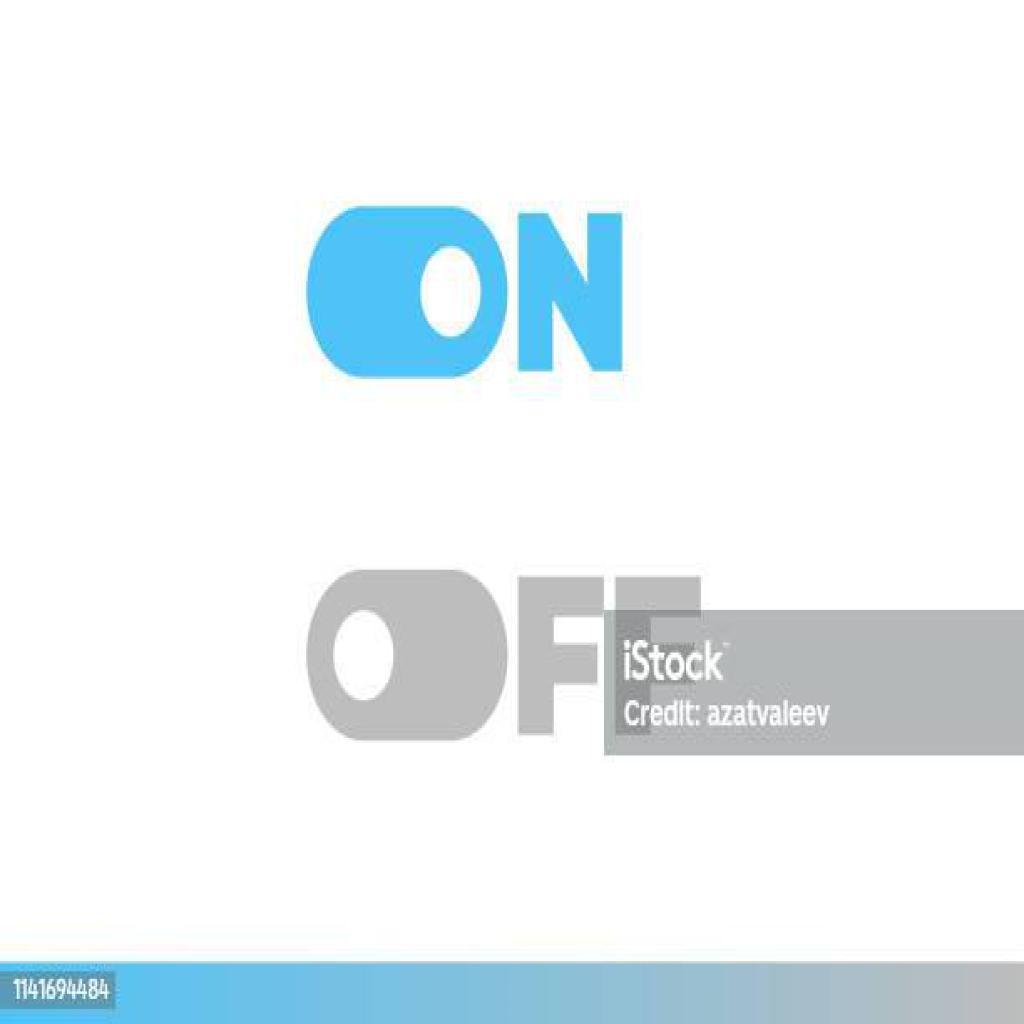switch: (300, 188, 514, 399), (300, 560, 513, 755)
